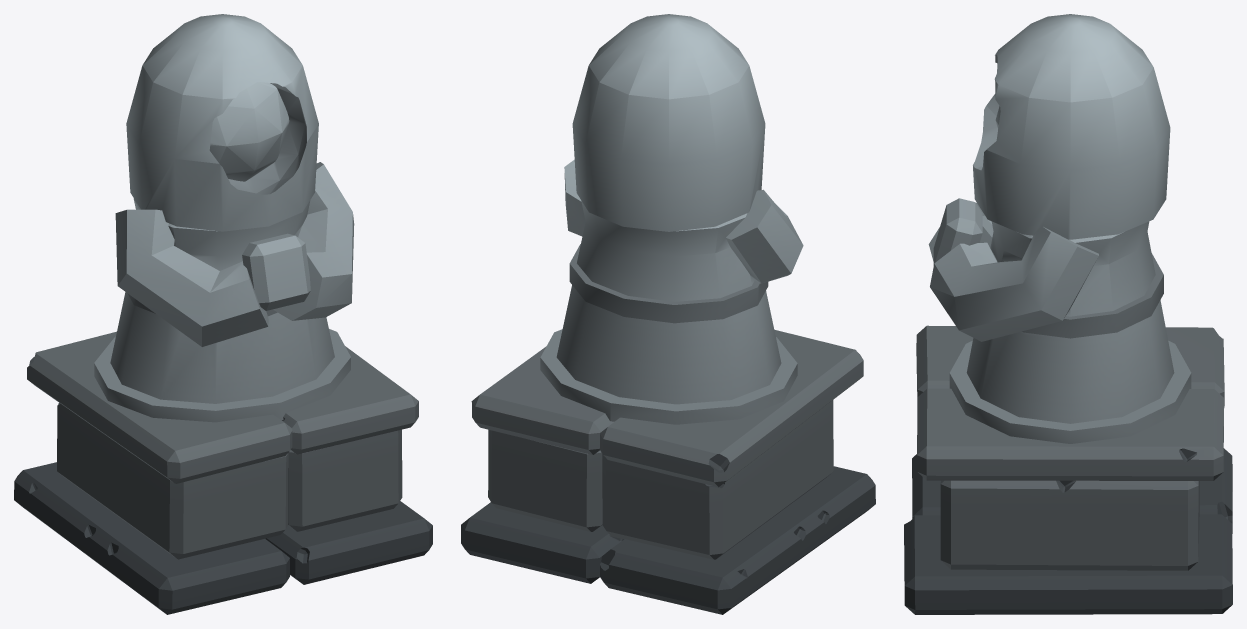
File: statue_praying.glb
The picture shows the model from 3 angles, left to right: view 1: azimuth 30°, elevation 25°; view 2: azimuth 150°, elevation 25°; view 3: azimuth 270°, elevation 25°; orthographic projection. The views are drawn at different scales.
Visible parts, largest first — view 1: statue_praying; view 2: statue_praying; view 3: statue_praying.
Boxes of the visible parts, <box> form: statue_praying: <box>14,14,432,614</box>; statue_praying: <box>461,14,875,614</box>; statue_praying: <box>904,14,1232,614</box>.
Bounding box in the file's own units: 1.56 × 2.81 × 1.58.
1 material, 1 textured.
